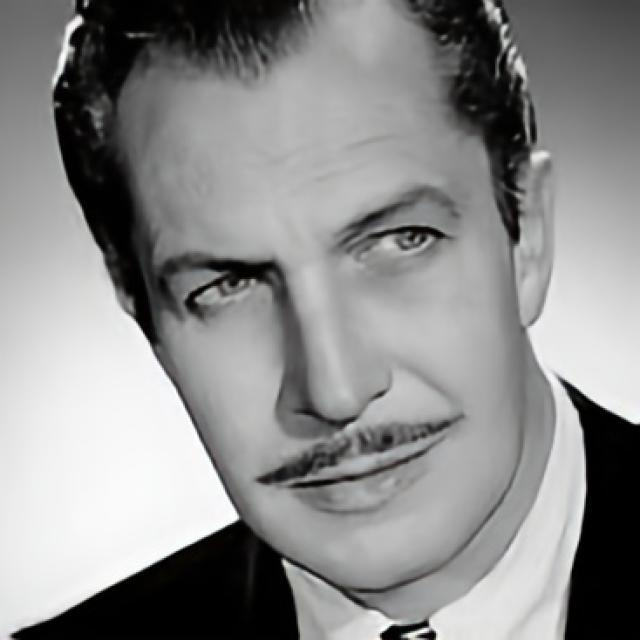content: (115, 0, 527, 591)
